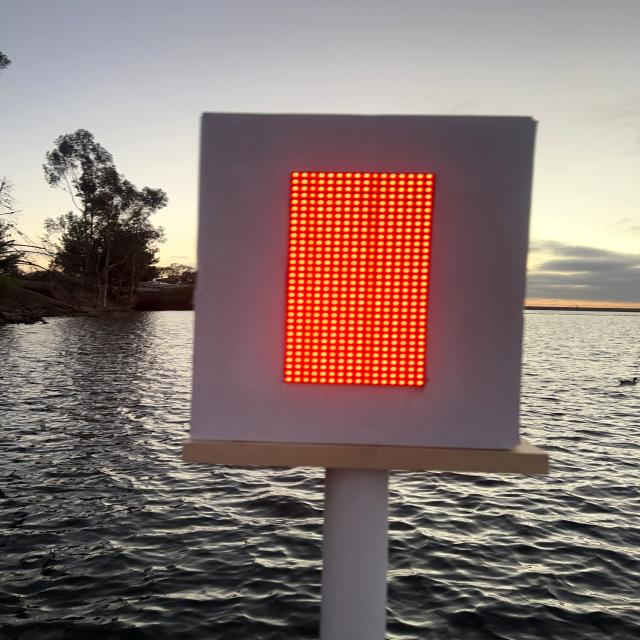led: (295, 143, 456, 415)
